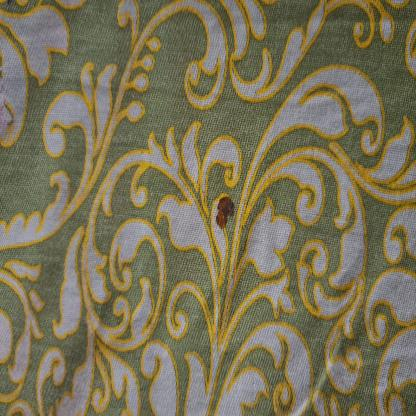spot: (212, 188, 238, 231)
